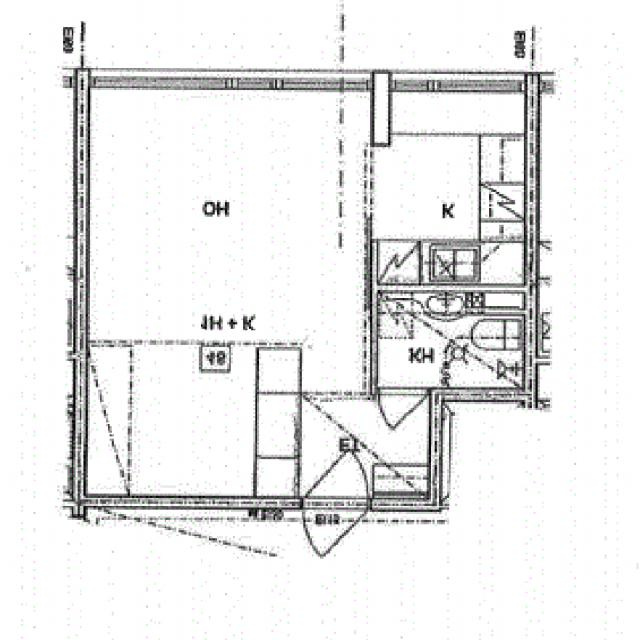door: (303, 432, 367, 507), (303, 497, 367, 571), (380, 388, 426, 442)
